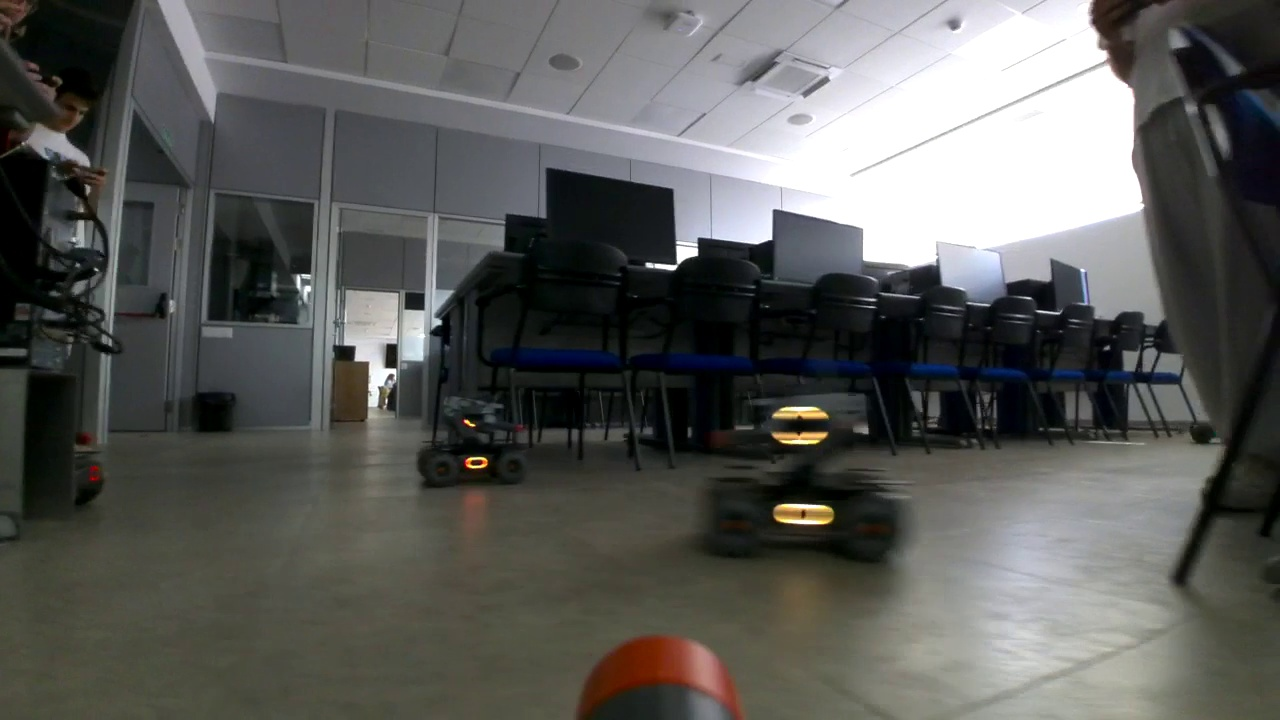robot: (701, 385, 904, 562), (417, 379, 523, 482)
